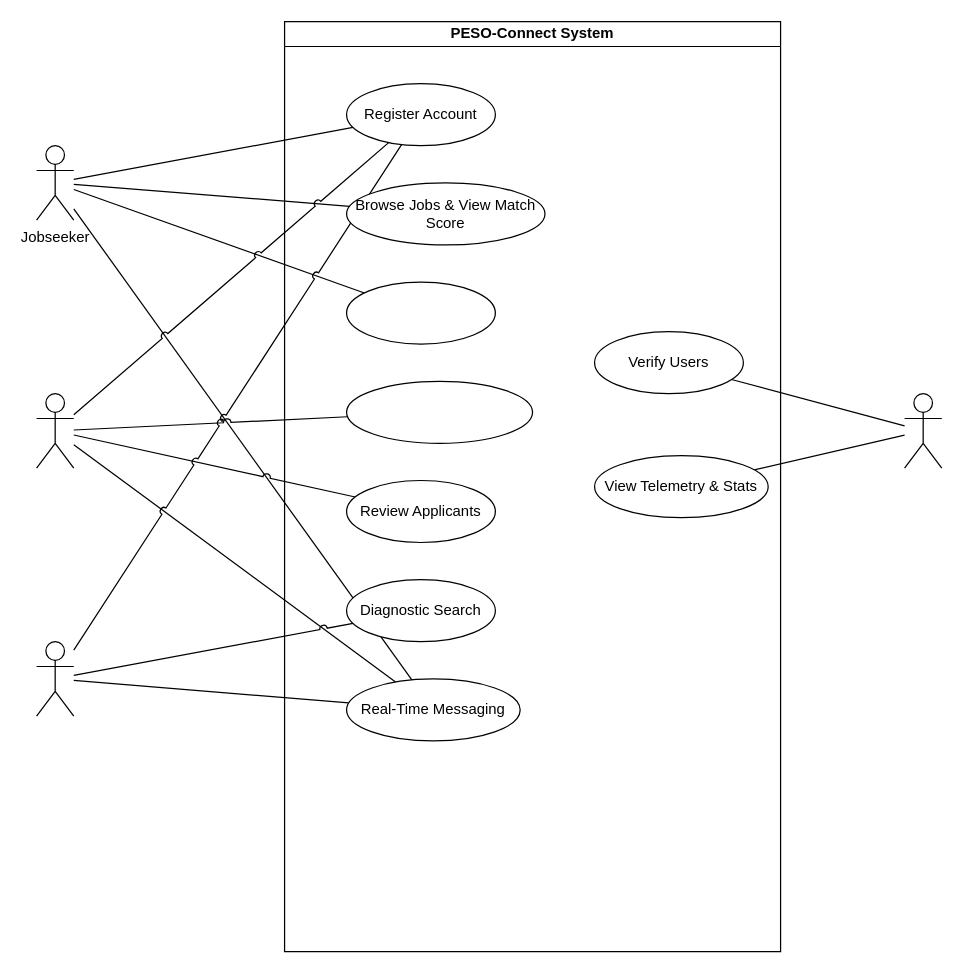
Some shapes in this 966 by 973 pixel diagram are drawn without their labels. Each missing label, with the centre of its shape:
Admin: point 922,430
Apply for Job: point 420,312
Employer: point 54,430
Individual: point 54,678
Post Job (AI Skill Recs): point 439,411
